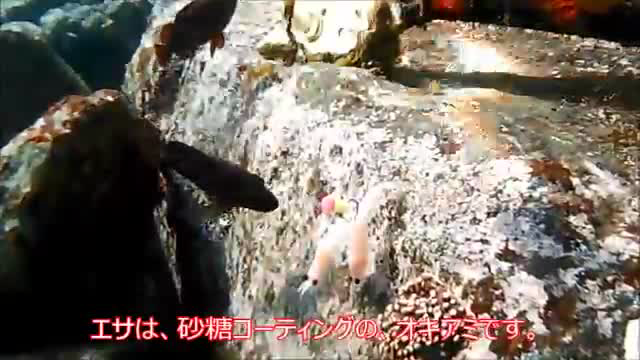mebaru: (146, 129, 290, 244)
